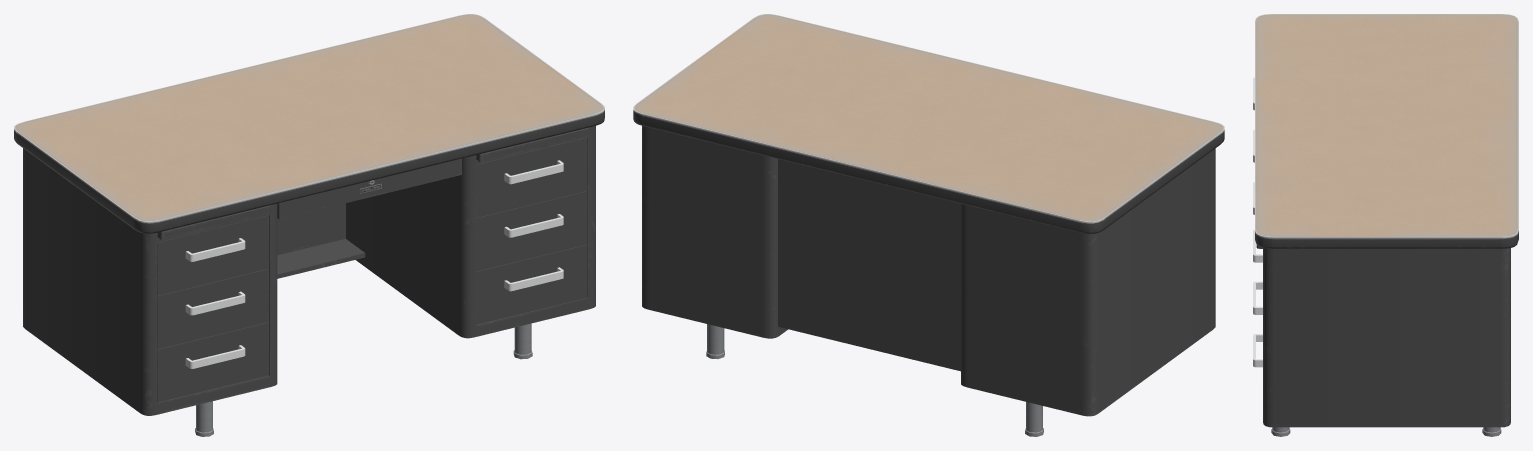
The model's file is SteelTankerDesk_C.fbx.
The picture shows the model from 3 angles, left to right: view 1: azimuth 30°, elevation 25°; view 2: azimuth 150°, elevation 25°; view 3: azimuth 270°, elevation 25°; orthographic projection. The views are drawn at different scales.
Parts seen in each view (by area): view 1: SteelTankerDesk_C, Drawer_02, Drawer_05, Drawer_01, Drawer_04, Drawer_03, Drawer_06, Drawer_07, ExtendableTableTop_01, ExtendableTableTop_02; view 2: SteelTankerDesk_C; view 3: SteelTankerDesk_C.
Part boxes in pixels (<box>): SteelTankerDesk_C: <box>14,14,604,436</box>; Drawer_02: <box>157,269,268,349</box>; Drawer_05: <box>476,191,587,271</box>; Drawer_01: <box>157,215,268,295</box>; Drawer_04: <box>476,137,587,217</box>; Drawer_03: <box>157,322,268,402</box>; Drawer_06: <box>476,244,587,324</box>; Drawer_07: <box>277,158,461,219</box>; ExtendableTableTop_01: <box>157,205,270,239</box>; ExtendableTableTop_02: <box>476,127,589,161</box>; SteelTankerDesk_C: <box>633,14,1224,436</box>; SteelTankerDesk_C: <box>1255,14,1518,436</box>.
Size of the model in its own units: 152 by 73.66 by 76.71.
